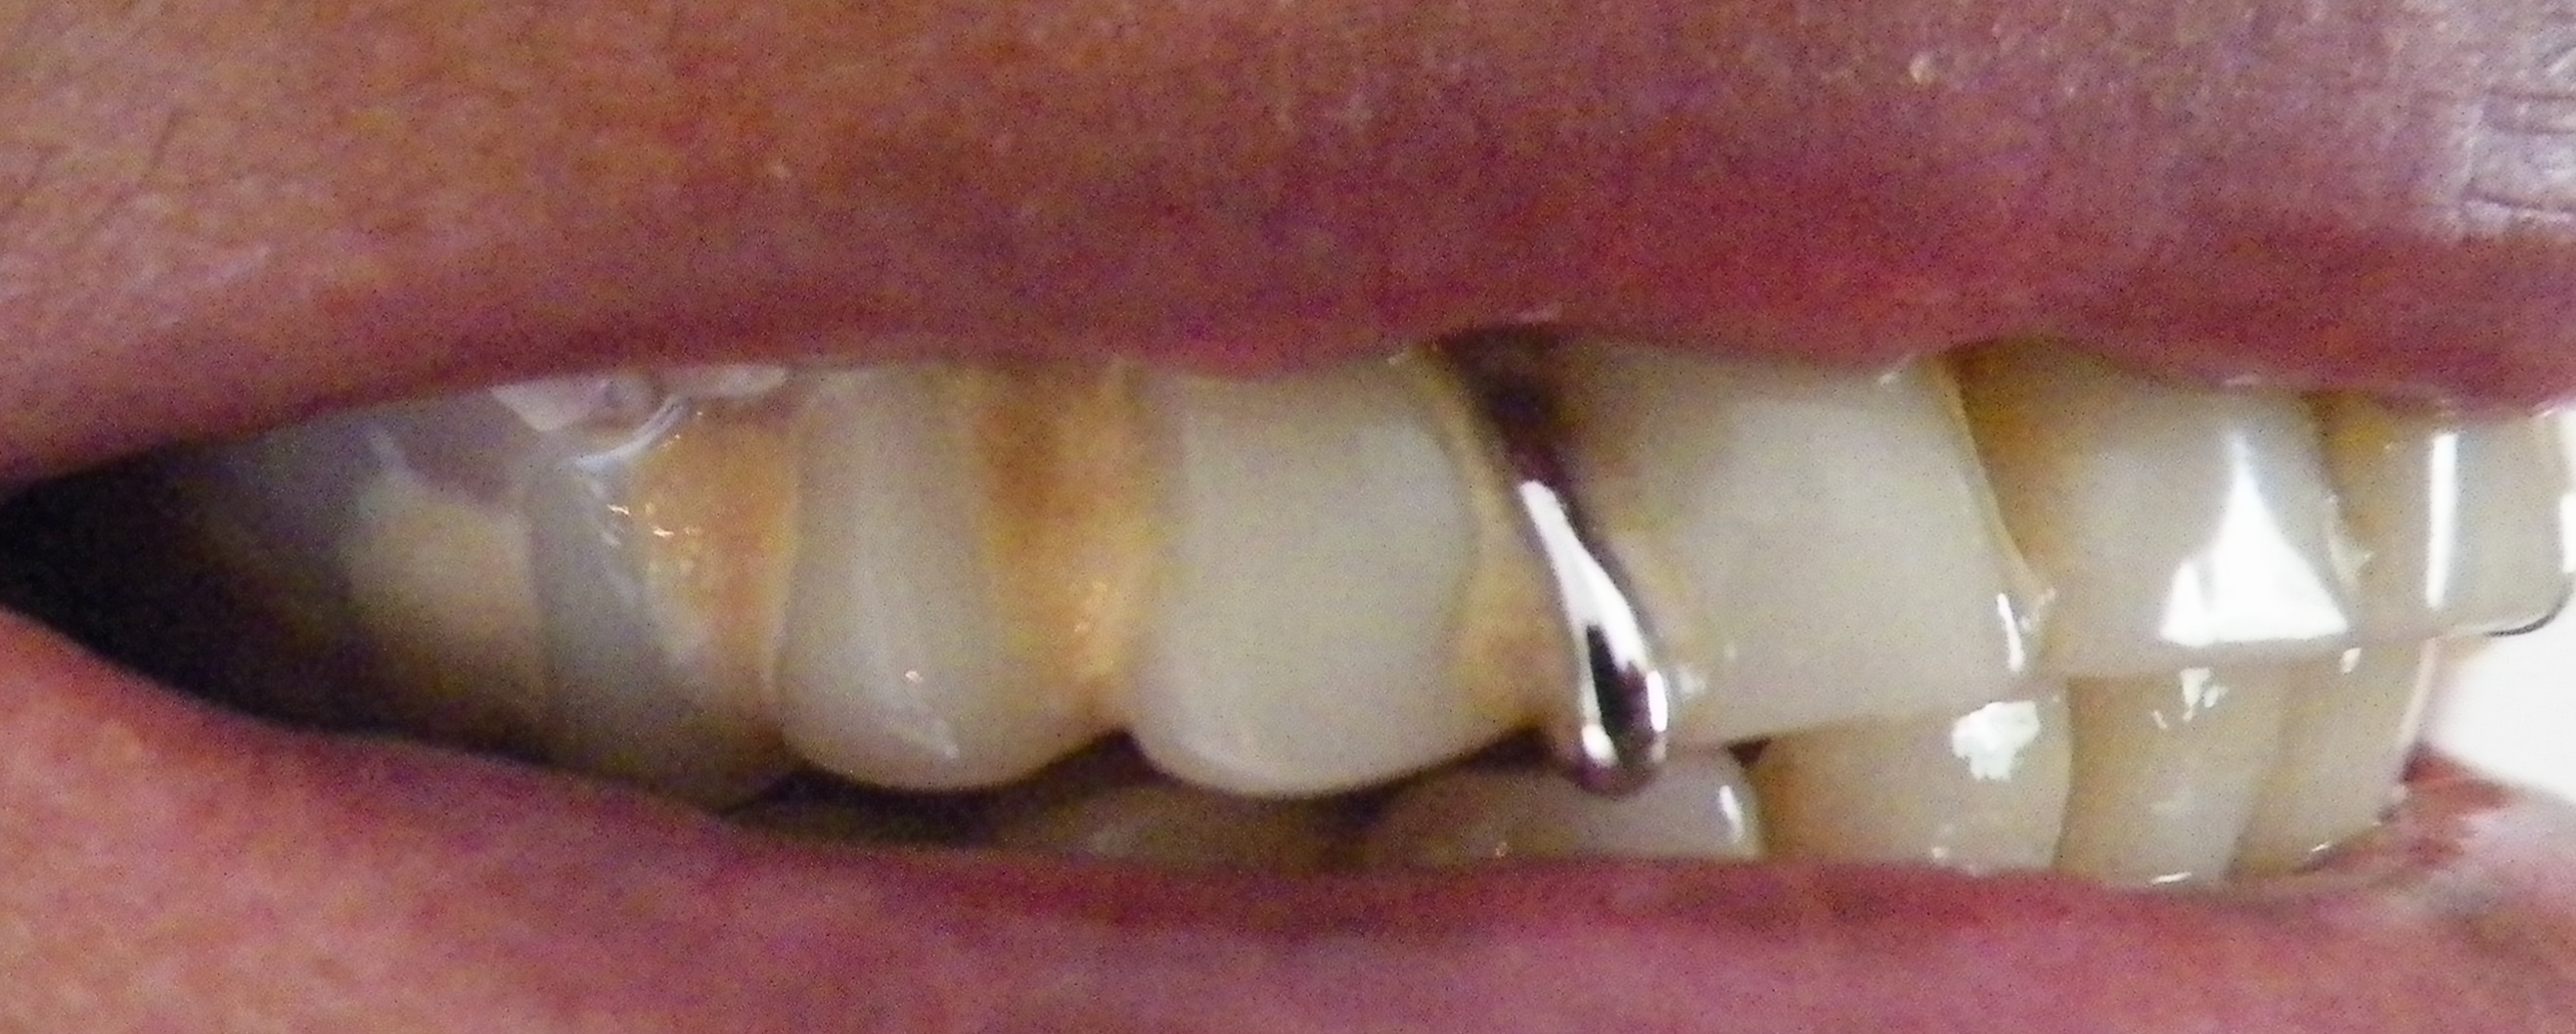boca: (215, 339, 2537, 865)
